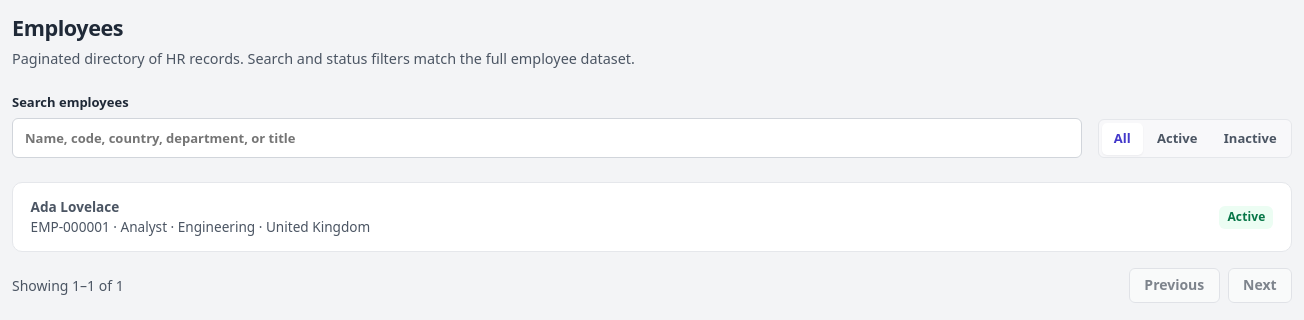
search encodes percent, underscore, and backslash in q
Check: the text "Ada Lovelace" is shown, box [31,197,119,216]
In the search field labelled "Search employees": coordinates (547, 138) [12,118,1082,158], type "%_\\"
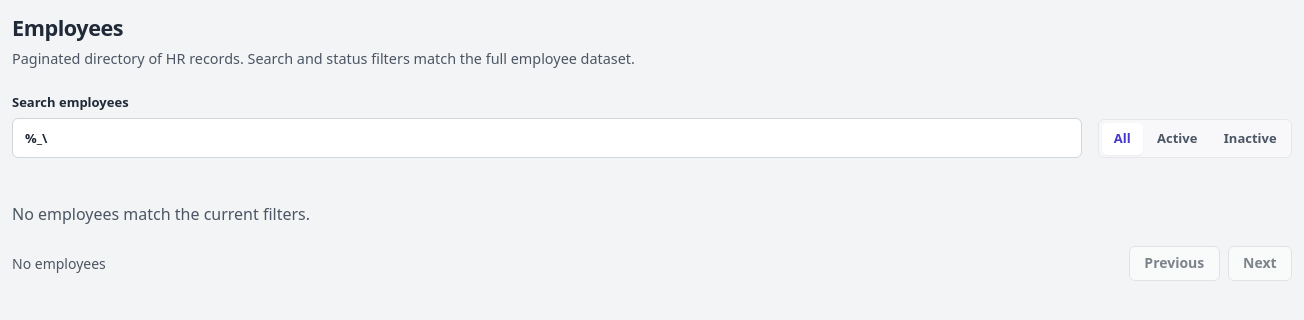
Check: the text "No employees match the current filters." is shown, box [12,203,310,225]
